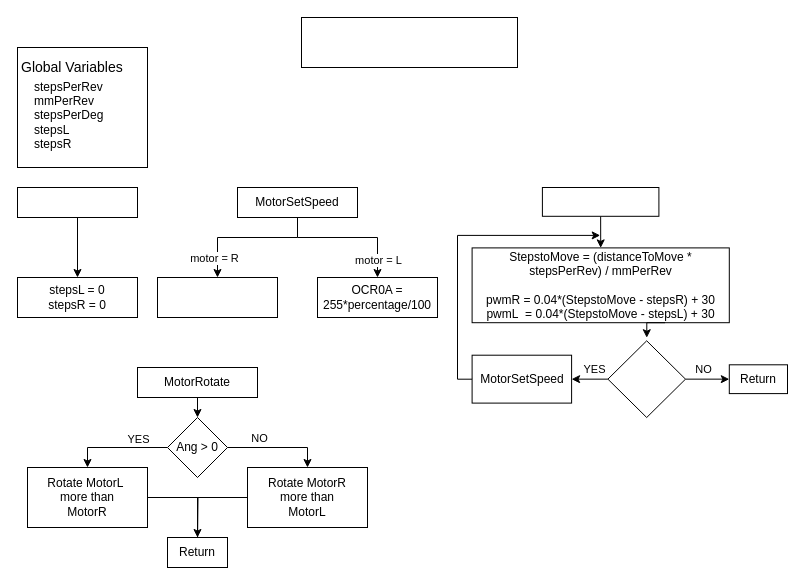
Image size: 805x585. Some labels were removed from this diagram. The centre of each missing label's shape, as x and y in pixels:
MOTOR SOFTWARE: the point at 409,42
MotorMove: the point at 600,201
MotorResetSteps: the point at 77,202
OCR2A = 255*percentage/100: the point at 217,297
PWM > 30: the point at 646,379
